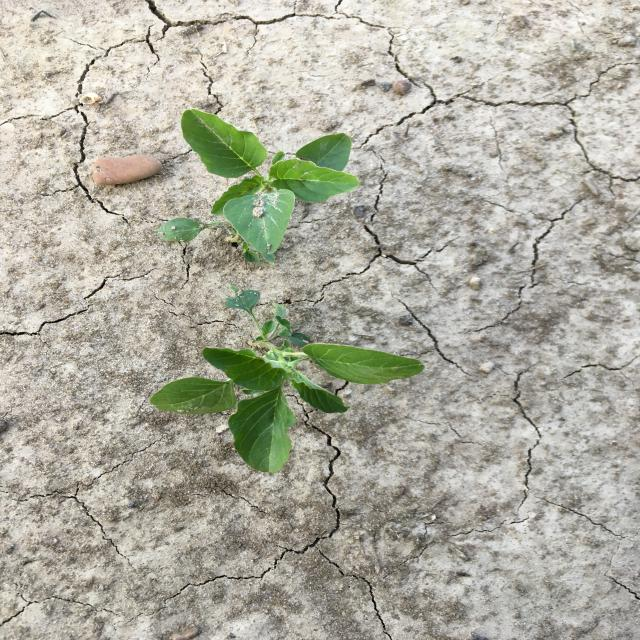PalmerAmaranth: (147, 279, 427, 476), (155, 107, 362, 269)
